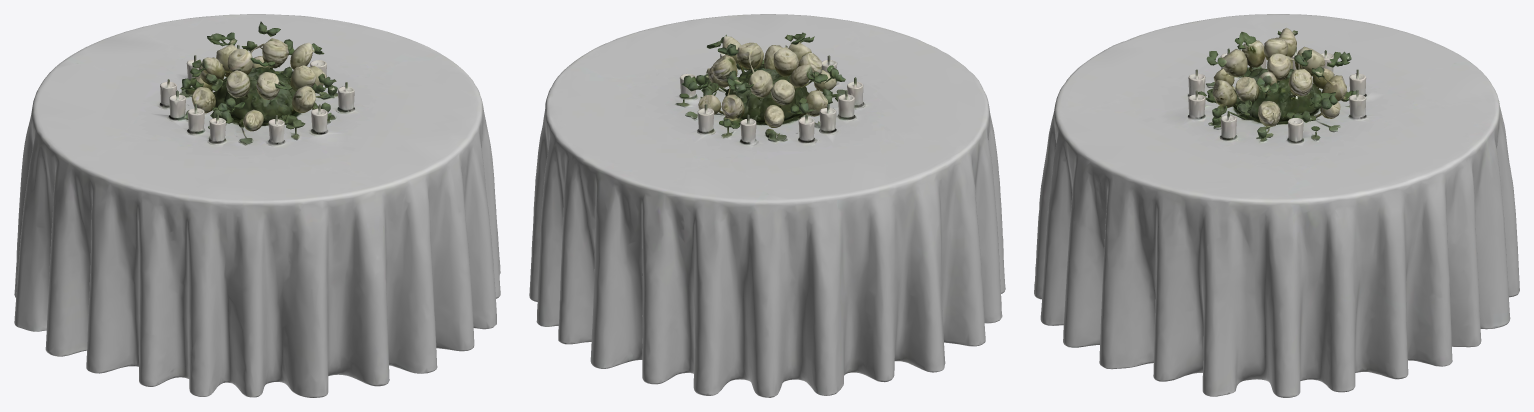
Rendered from roundtable.glb.
The picture shows the model from 3 angles, left to right: view 1: azimuth 30°, elevation 25°; view 2: azimuth 150°, elevation 25°; view 3: azimuth 270°, elevation 25°; orthographic projection.
Visible parts, largest first — view 1: tripo_node_75b9797f-3a58-48bd-97ff-08f640fc25a9; view 2: tripo_node_75b9797f-3a58-48bd-97ff-08f640fc25a9; view 3: tripo_node_75b9797f-3a58-48bd-97ff-08f640fc25a9.
Part boxes in pixels (bbox=[...]): tripo_node_75b9797f-3a58-48bd-97ff-08f640fc25a9: bbox=[14, 14, 500, 397]; tripo_node_75b9797f-3a58-48bd-97ff-08f640fc25a9: bbox=[529, 14, 1005, 397]; tripo_node_75b9797f-3a58-48bd-97ff-08f640fc25a9: bbox=[1034, 14, 1519, 397].
Size of the model in its own units: 1 by 0.5803 by 0.9935.
Materials: 1 (1 with a texture image).
